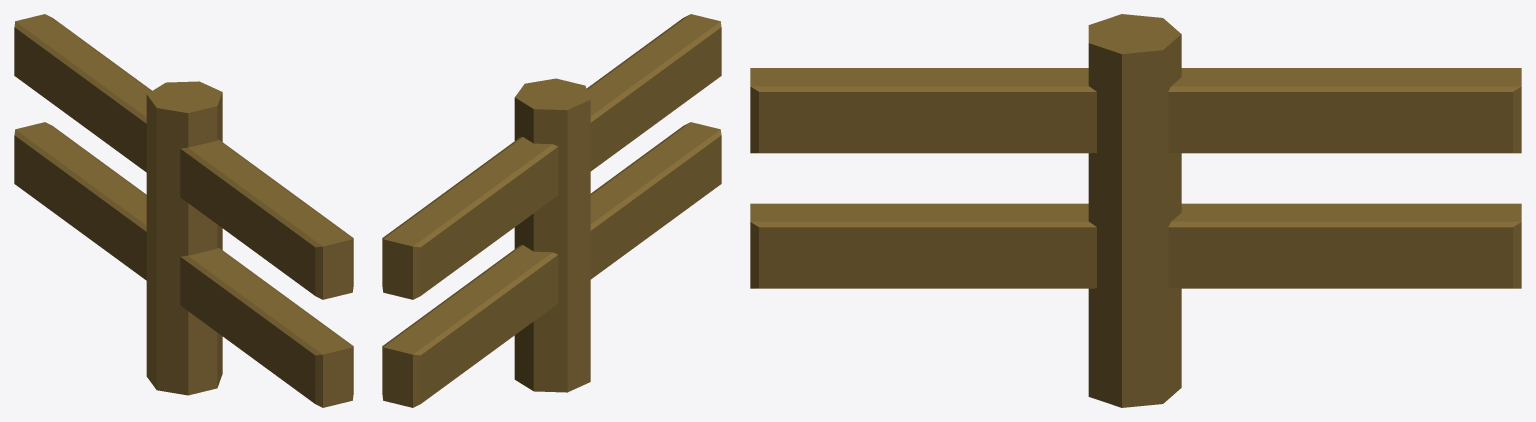
Rendered from fence_1_post.gltf.
3 views of the same model, side by side, from view 1: azimuth 30°, elevation 25°; view 2: azimuth 150°, elevation 25°; view 3: azimuth 270°, elevation 25° (orthographic). The views are drawn at different scales.
Parts seen in each view (by area): view 1: UpperBeam-col, LowerBeam-col, Post; view 2: UpperBeam-col, LowerBeam-col, Post; view 3: UpperBeam-col, LowerBeam-col, Post.
Part boxes in pixels (left/top/right/bottom): UpperBeam-col: left=14, top=14, right=353, bottom=299; LowerBeam-col: left=14, top=122, right=353, bottom=407; Post: left=146, top=81, right=222, bottom=395; UpperBeam-col: left=382, top=14, right=721, bottom=299; LowerBeam-col: left=382, top=122, right=721, bottom=407; Post: left=514, top=78, right=590, bottom=392; UpperBeam-col: left=750, top=68, right=1521, bottom=153; LowerBeam-col: left=750, top=203, right=1521, bottom=288; Post: left=1088, top=14, right=1181, bottom=407.
Size of the model in its own units: 0.4875 by 2 by 3.95.
